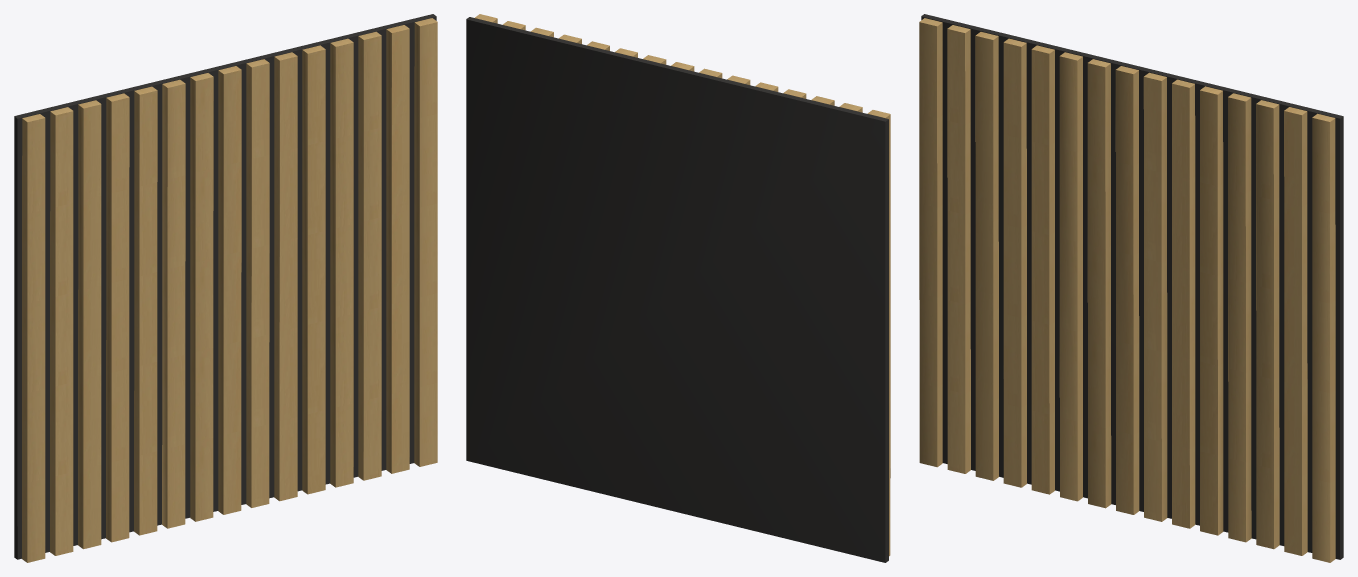
3 views of the same model, side by side, from view 1: azimuth 30°, elevation 25°; view 2: azimuth 150°, elevation 25°; view 3: azimuth 330°, elevation 25° (orthographic).
Visible parts, largest first — view 1: C-skp703B; view 2: C-skp703B; view 3: C-skp703B.
Boxes of the visible parts, box(x1,y1,x2,y2) form: C-skp703B: box(14, 14, 437, 562); C-skp703B: box(466, 14, 890, 562); C-skp703B: box(919, 14, 1343, 562).
Size of the model in its own units: 0.6028 by 0.6062 by 0.0234.
2 materials, 1 textured.
